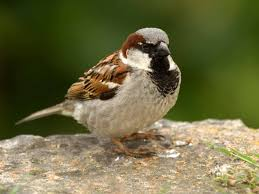hsparrow: (13, 23, 186, 157)
